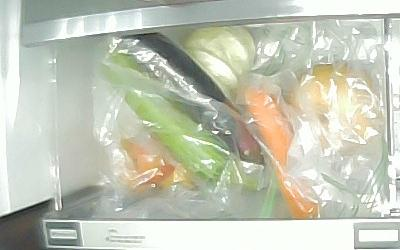cabbage_vinyl: (180, 27, 257, 93)
carrot_vinyl: (243, 89, 320, 221)
eggplant_vinyl: (114, 34, 265, 181)
pear_vinyl: (293, 63, 383, 150)
tomato_vinyl: (111, 139, 176, 199)
zucchini_vinyl: (105, 58, 258, 193)
